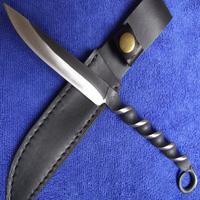knife: (2, 1, 194, 177)
